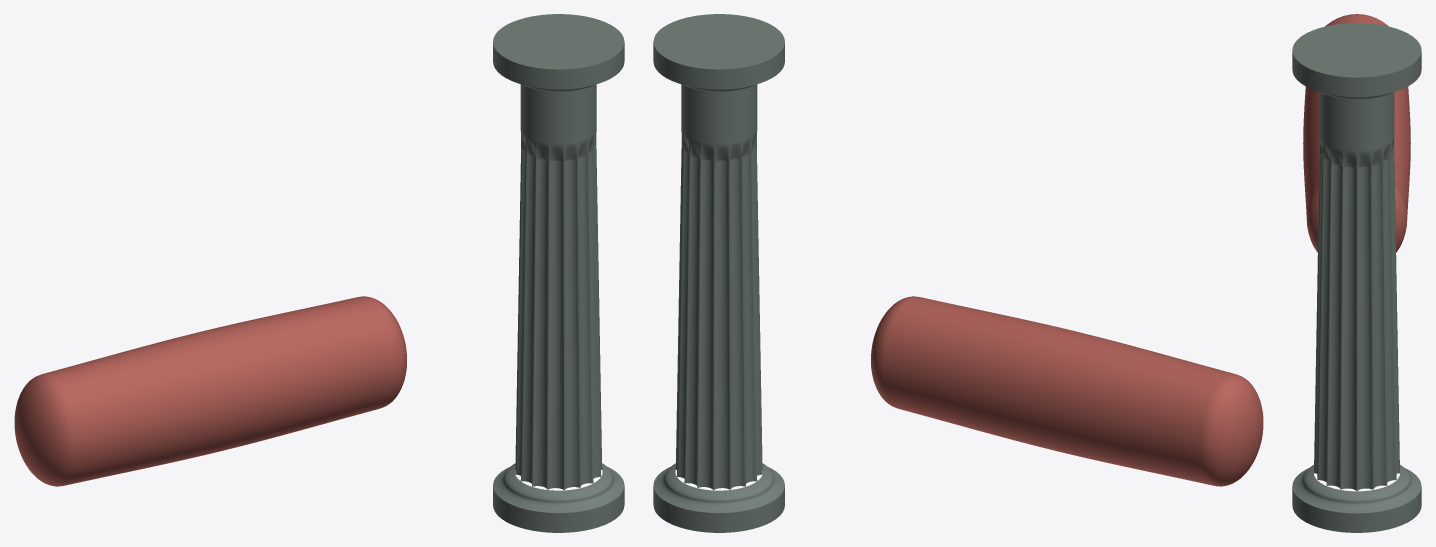
The model's file is ends.gltf.
3 views of the same model, side by side, from view 1: azimuth 30°, elevation 25°; view 2: azimuth 150°, elevation 25°; view 3: azimuth 270°, elevation 25° (orthographic).
Parts seen in each view (by area): view 1: arm roll, shaft, capital, plinth; view 2: arm roll, shaft, capital, plinth; view 3: shaft, capital, plinth, arm roll.
Boxes of the visible parts, x1,y1,x2,y2 form: arm roll: [14, 296, 406, 486]; shaft: [515, 84, 602, 490]; capital: [493, 14, 624, 91]; plinth: [493, 463, 624, 532]; arm roll: [871, 296, 1263, 486]; shaft: [675, 84, 762, 490]; capital: [653, 14, 784, 91]; plinth: [653, 463, 784, 532]; shaft: [1314, 92, 1399, 490]; capital: [1292, 23, 1421, 99]; plinth: [1292, 465, 1421, 532]; arm roll: [1303, 14, 1410, 252].
Bounding box in the file's own units: 0.9349 × 0.7 × 0.18.
